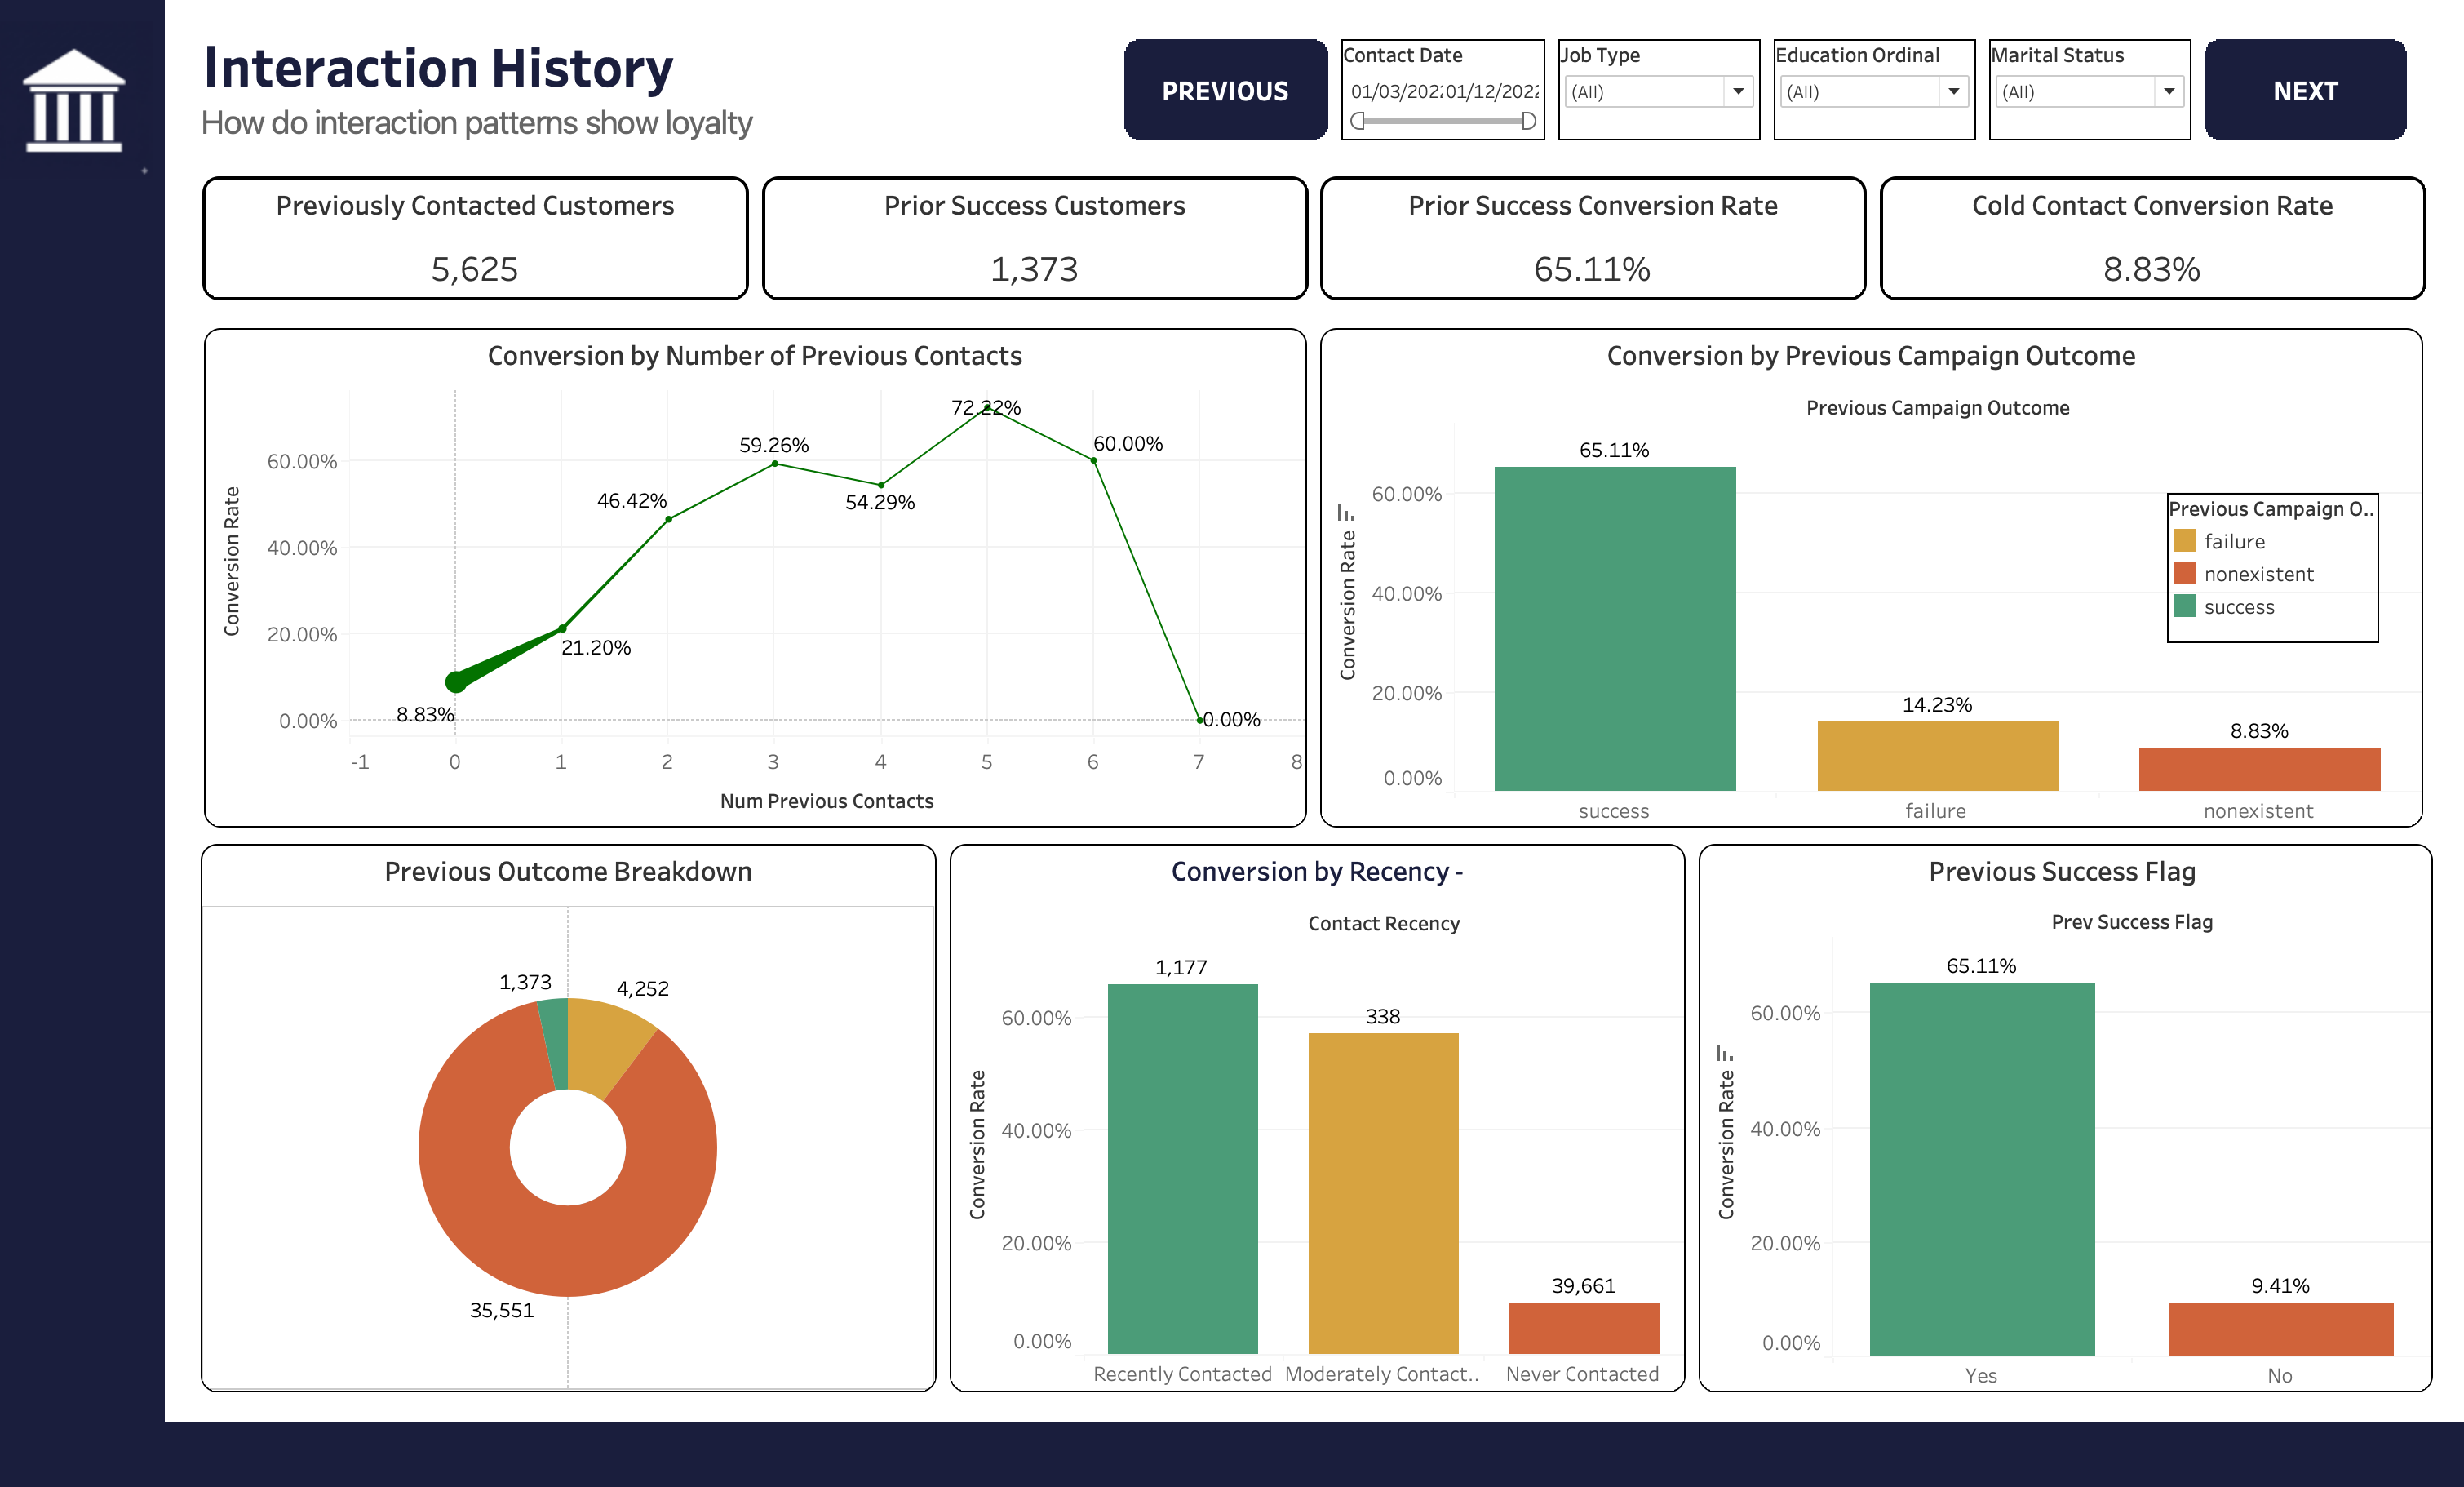

The dashboard page shown, as its layout file describes it:
{"tool":"tableau","page":{"name":"Dashboard 3","canvas":[1000,1000],"units":"permille","ordinal":2},"visuals":[{"type":"text","box":[71.2,8.7,923.5,112.6]},{"type":"dashboard-object","box":[13.8,20.2,48.5,78]},{"type":"text","box":[71.4,21,248.8,56]},{"type":"dashboard-object","box":[454.4,28.3,88,76.2]},{"type":"filter","title":"KPI3 Cold Contact Conversion Rate","param":"[federated.15u9y5w1suofnn13o5t910siqhh7].[none:Calculation_2485578572034066:qk]","box":[542.3,28.3,88,76.2]},{"type":"filter","title":"KPI3 Cold Contact Conversion Rate","param":"[federated.15u9y5w1suofnn13o5t910siqhh7].[none:job_type:nk]","box":[630.3,28.3,87.3,76.2]},{"type":"filter","title":"KPI3 Cold Contact Conversion Rate","param":"[federated.15u9y5w1suofnn13o5t910siqhh7].[none:education_ordinal:nk]","box":[717.6,28.3,87.3,76.2]},{"type":"filter","title":"KPI3 Cold Contact Conversion Rate","param":"[federated.15u9y5w1suofnn13o5t910siqhh7].[none:marital_status:nk]","box":[804.9,28.3,87.3,76.2]},{"type":"dashboard-object","box":[892.2,28.3,87.3,76.2]},{"type":"text","box":[81.1,73.5,381.2,28]},{"type":"worksheet","title":"KPI3 Previously Contacted Customers","mark":"Automatic","box":[80.7,120.2,226.6,91]},{"type":"worksheet","title":"KPI3 Prior Success Customers","mark":"Automatic","box":[307.3,120.2,226.6,91]},{"type":"worksheet","title":"KPI3 Prior Success Conversion Rate ","mark":"Automatic","box":[533.8,120.2,226.6,91]},{"type":"worksheet","title":"KPI3 Cold Contact Conversion Rate","mark":"Automatic","box":[760.4,120.2,226.6,91]},{"type":"text","box":[71.2,121.4,923.5,869.9]},{"type":"worksheet","title":"Conversion by Number of Previous Contacts","mark":"Line","rows":["Calculation_2485578601361431"],"cols":["num_previous_contacts"],"box":[81.4,220.9,452.4,341.7]},{"type":"worksheet","title":"Conversion by Previous Campaign Outcome","mark":"Automatic","rows":["Calculation_2485578601361431"],"cols":["previous_campaign_outcome"],"box":[533.7,220.9,452.4,341.7]},{"type":"legend","title":"Previous Outcome Breakdown","param":"[federated.15u9y5w1suofnn13o5t910siqhh7].[none:previous_campaign_outcome:nk]","box":[879.3,334.9,86.1,100.4]},{"type":"worksheet","title":"Previous Outcome Breakdown","mark":"Pie","cols":["Calculation_3956038378680325","Calculation_3956038378680325"],"box":[80,564.7,303.6,374.3]},{"type":"worksheet","title":"Conversion by Recency -","mark":"Bar","rows":["Calculation_2485578601361431"],"cols":["contact_recency"],"box":[383.6,564.7,303.6,374.3]},{"type":"worksheet","title":"Previous Success Flag ","mark":"Automatic","rows":["Calculation_2485578601361431"],"cols":["prev_success_flag"],"box":[687.2,564.7,302.9,374.3]}]}

Visuals, with their boxes on the dashboard's canvas, which has no fixed pixel size, in thousandths of its width and height (x1, y1, x2, y2). These are canvas units, not pixel positions in the 2464x1487 screenshot, which may show the page scaled, cropped or inside an application window:
text: bbox=(71, 9, 995, 121)
dashboard-object: bbox=(14, 20, 62, 98)
text: bbox=(71, 21, 320, 77)
dashboard-object: bbox=(454, 28, 542, 104)
"KPI3 Cold Contact Conversion Rate" filter: bbox=(542, 28, 630, 104)
"KPI3 Cold Contact Conversion Rate" filter: bbox=(630, 28, 718, 104)
"KPI3 Cold Contact Conversion Rate" filter: bbox=(718, 28, 805, 104)
"KPI3 Cold Contact Conversion Rate" filter: bbox=(805, 28, 892, 104)
dashboard-object: bbox=(892, 28, 980, 104)
text: bbox=(81, 74, 462, 102)
"KPI3 Previously Contacted Customers" worksheet: bbox=(81, 120, 307, 211)
"KPI3 Prior Success Customers" worksheet: bbox=(307, 120, 534, 211)
"KPI3 Prior Success Conversion Rate " worksheet: bbox=(534, 120, 760, 211)
"KPI3 Cold Contact Conversion Rate" worksheet: bbox=(760, 120, 987, 211)
text: bbox=(71, 121, 995, 991)
"Conversion by Number of Previous Contacts" worksheet (Line marks): bbox=(81, 221, 534, 563)
"Conversion by Previous Campaign Outcome" worksheet: bbox=(534, 221, 986, 563)
"Previous Outcome Breakdown" legend: bbox=(879, 335, 965, 435)
"Previous Outcome Breakdown" worksheet (Pie marks): bbox=(80, 565, 384, 939)
"Conversion by Recency -" worksheet (Bar marks): bbox=(384, 565, 687, 939)
"Previous Success Flag " worksheet: bbox=(687, 565, 990, 939)
